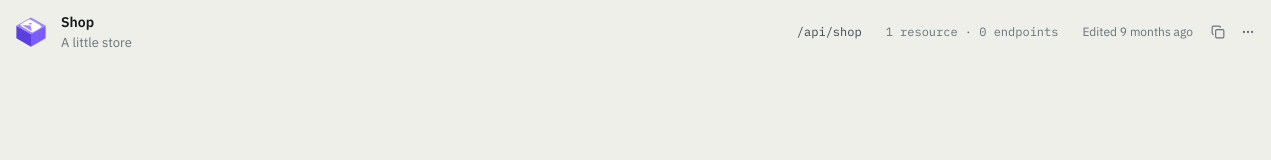
Test: starts a rename by clicking the name directly, without navigating
The width and height of the screenshot is (1271, 160).
Click the text "Shop" at (78, 22), box x1=61 y1=13 x2=94 y2=31
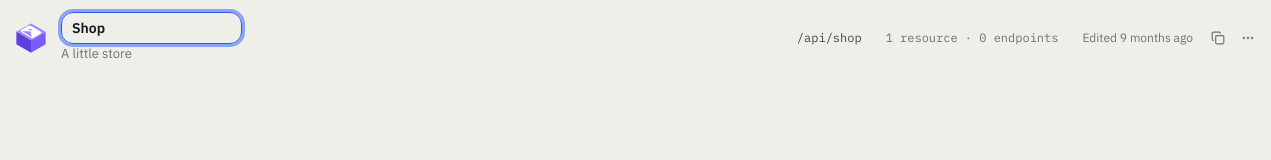
expect the field named "Project name" is shown: met, box x1=61 y1=12 x2=242 y2=44
